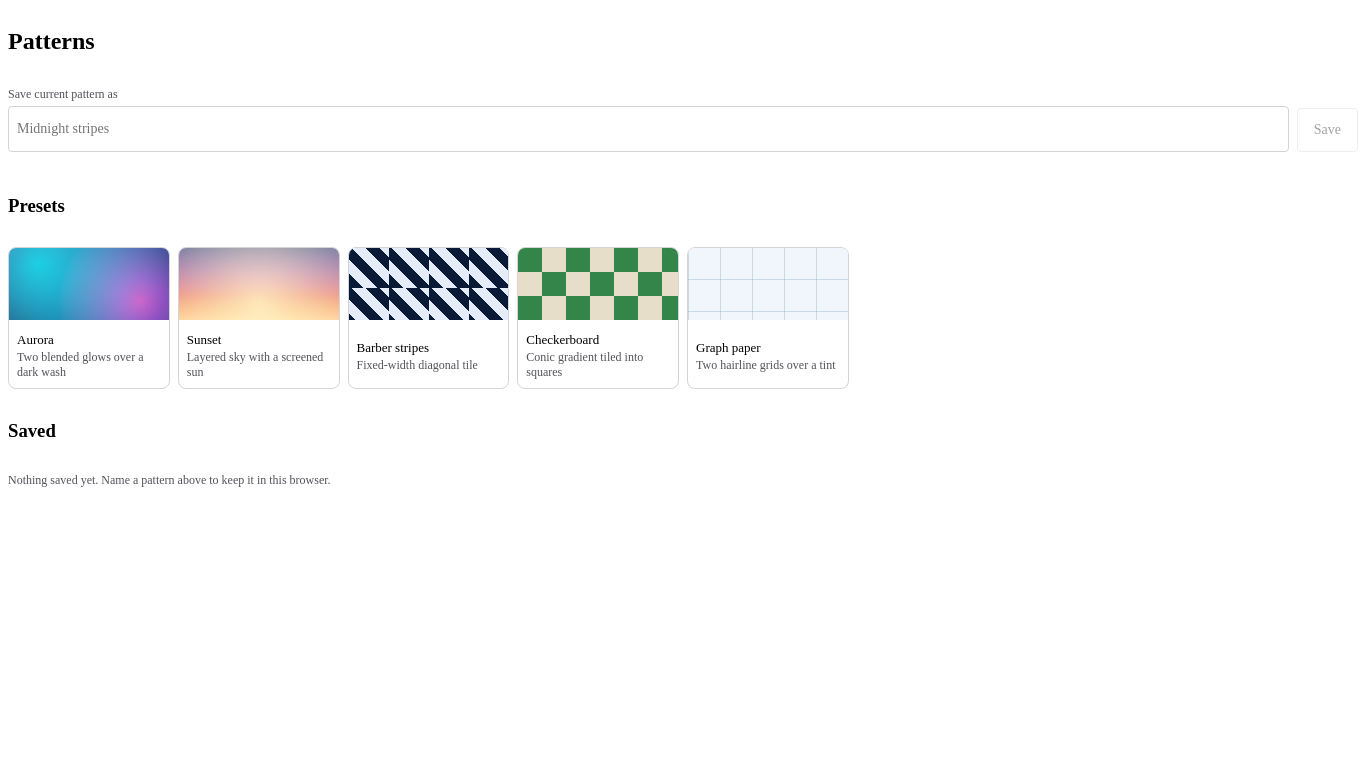
Test: PatternLibrary › saves the current pattern under a name
Type "Midnight" into the field labelled "Save current pattern as" at (648, 129), box [8, 106, 1289, 152]
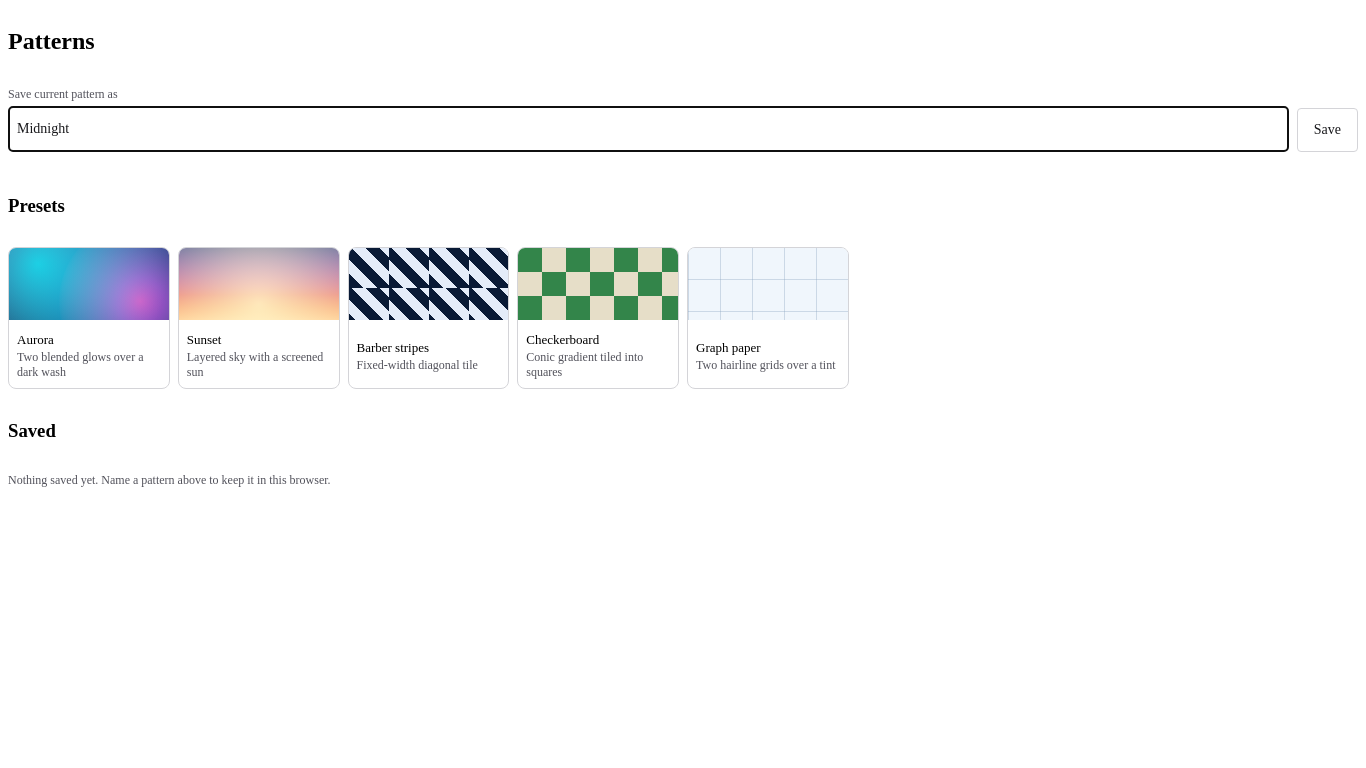
Click the button "Save" at (1327, 130), box [1297, 108, 1358, 152]
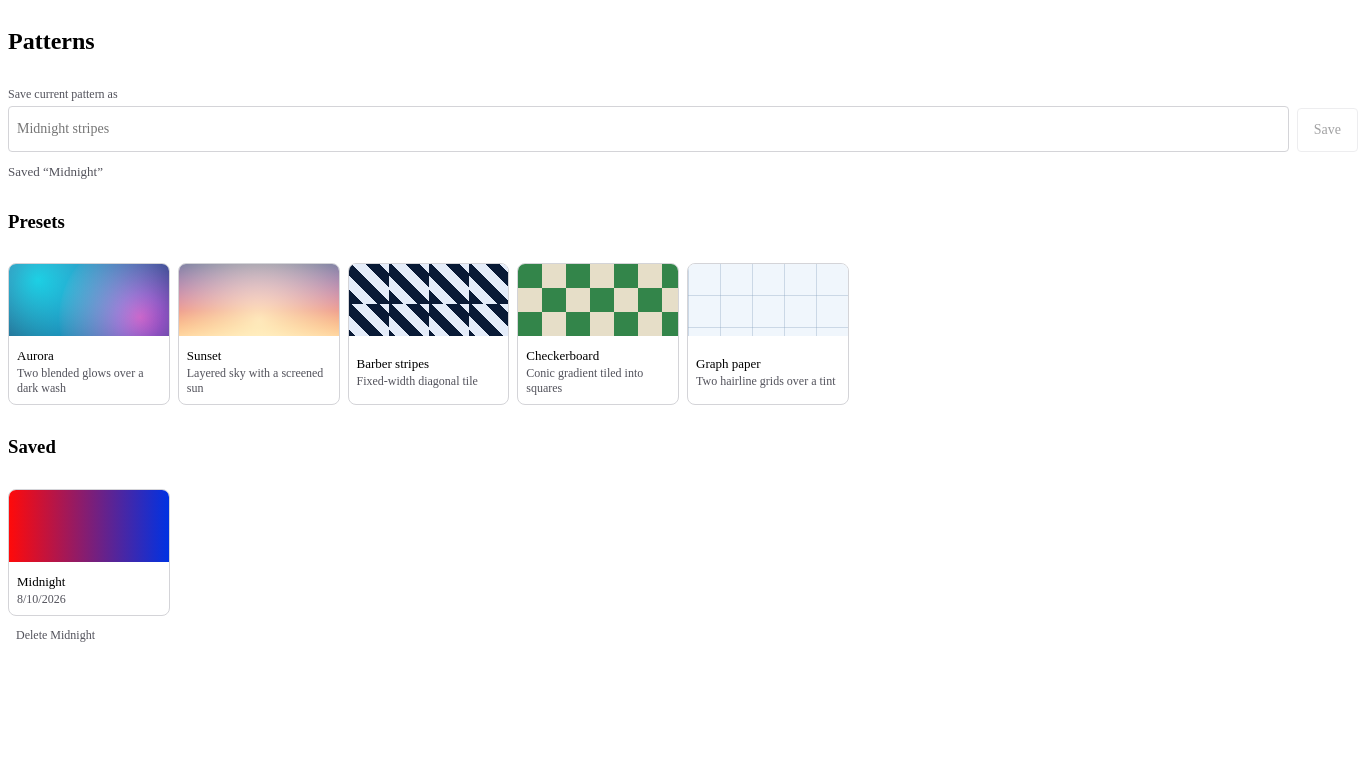
Result: the message reads "Saved “Midnight”" at [8, 164, 103, 179]
Result: the text "Midnight" is shown at [17, 574, 65, 589]
